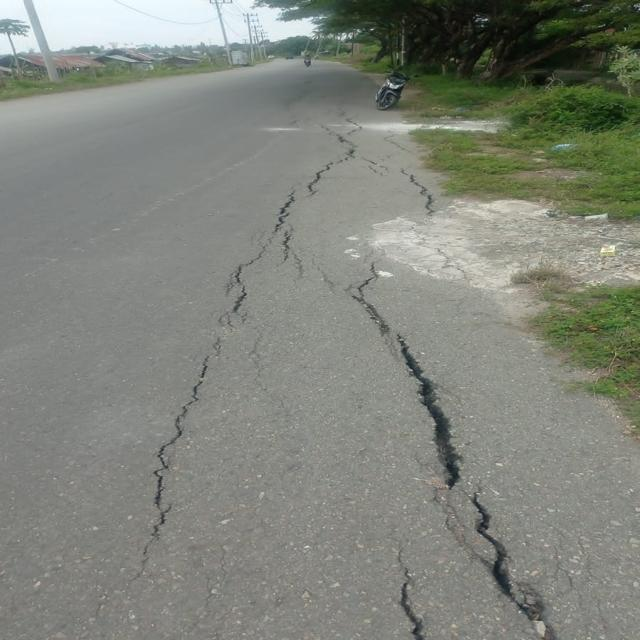Memanjang: (99, 135, 352, 583), (337, 272, 573, 640)
Pinggir: (375, 109, 611, 351)
